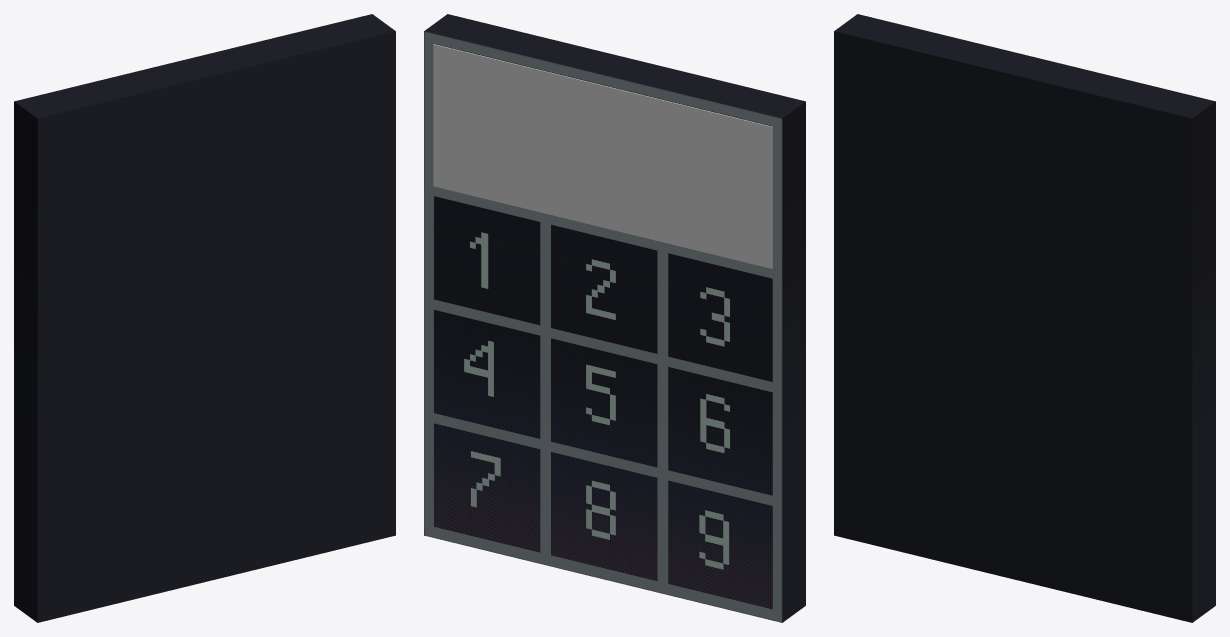
File: security pad.fbx
The picture shows the model from 3 angles, left to right: view 1: azimuth 30°, elevation 25°; view 2: azimuth 150°, elevation 25°; view 3: azimuth 330°, elevation 25°; orthographic projection.
Parts seen in each view (by area): view 1: security pad; view 2: security pad, security light; view 3: security pad.
Boxes of the visible parts, x1,y1,x2,y2 form: security pad: [14, 14, 395, 622]; security pad: [424, 14, 805, 622]; security light: [433, 44, 772, 268]; security pad: [834, 14, 1215, 622].
Bounding box in the file's own units: 15.22 × 20.48 × 1.77.
1 material, 1 textured.
